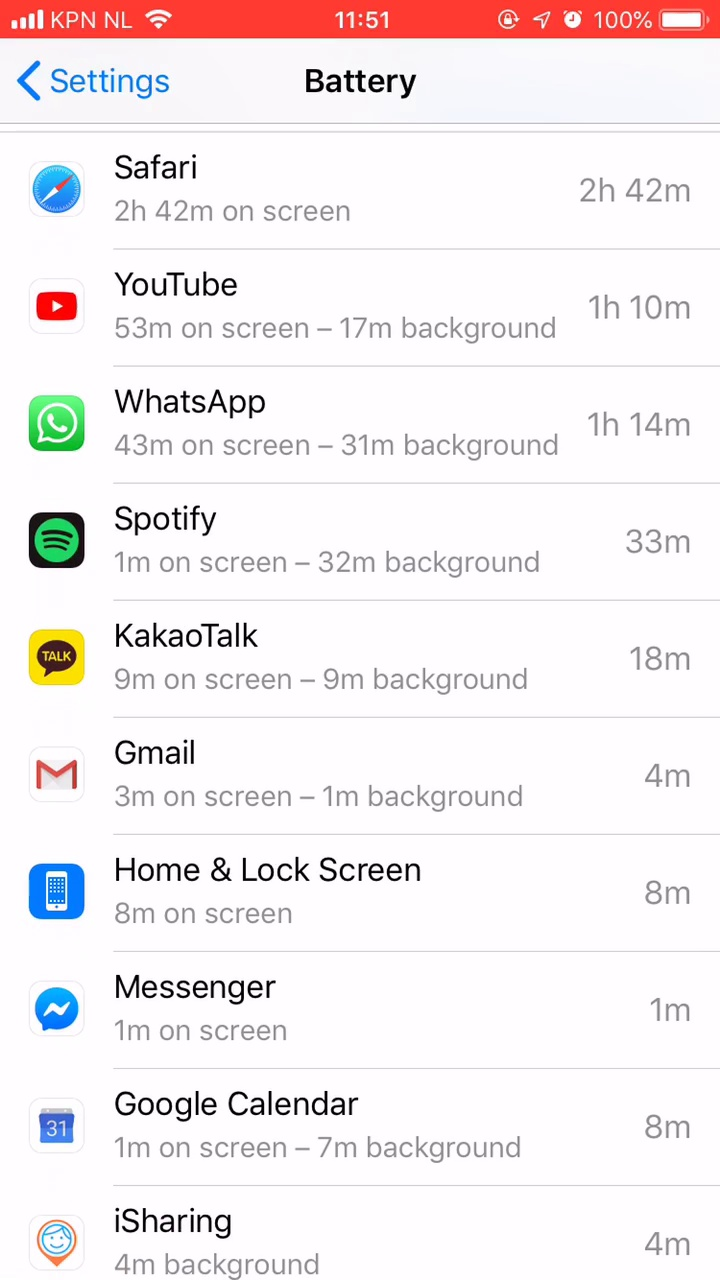app: (28, 148, 710, 229), (28, 261, 710, 342), (21, 385, 703, 466), (18, 496, 700, 577), (21, 616, 703, 697), (22, 724, 704, 805), (25, 859, 707, 940), (20, 967, 702, 1048), (22, 1084, 704, 1165), (24, 1197, 706, 1278)
